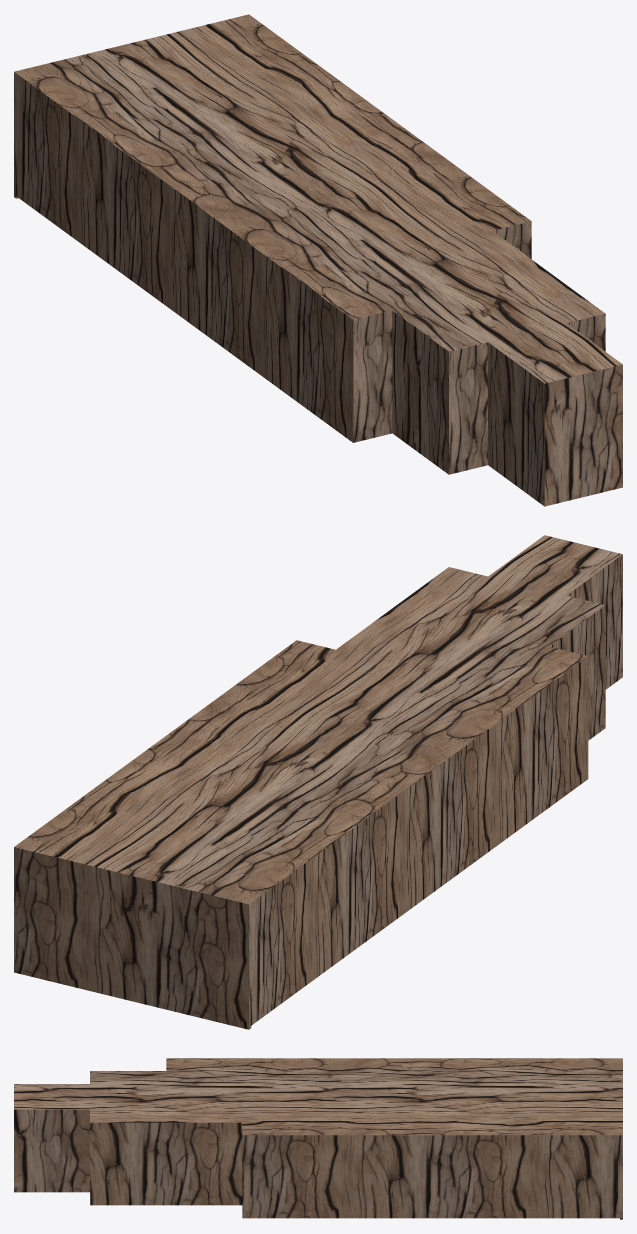
The model's file is bridgeHole1.fbx.
3 views of the same model, one above another, from view 1: azimuth 30°, elevation 25°; view 2: azimuth 150°, elevation 25°; view 3: azimuth 270°, elevation 25° (orthographic). The views are drawn at different scales.
Visible parts, largest first — view 1: Plane; view 2: Plane; view 3: Plane.
Boxes of the visible parts, x1,y1,x2,y2 form: Plane: (14,14,622,506); Plane: (14,535,622,1029); Plane: (14,1058,622,1219).
Bounding box in the file's own units: 600 × 306 × 2000.
